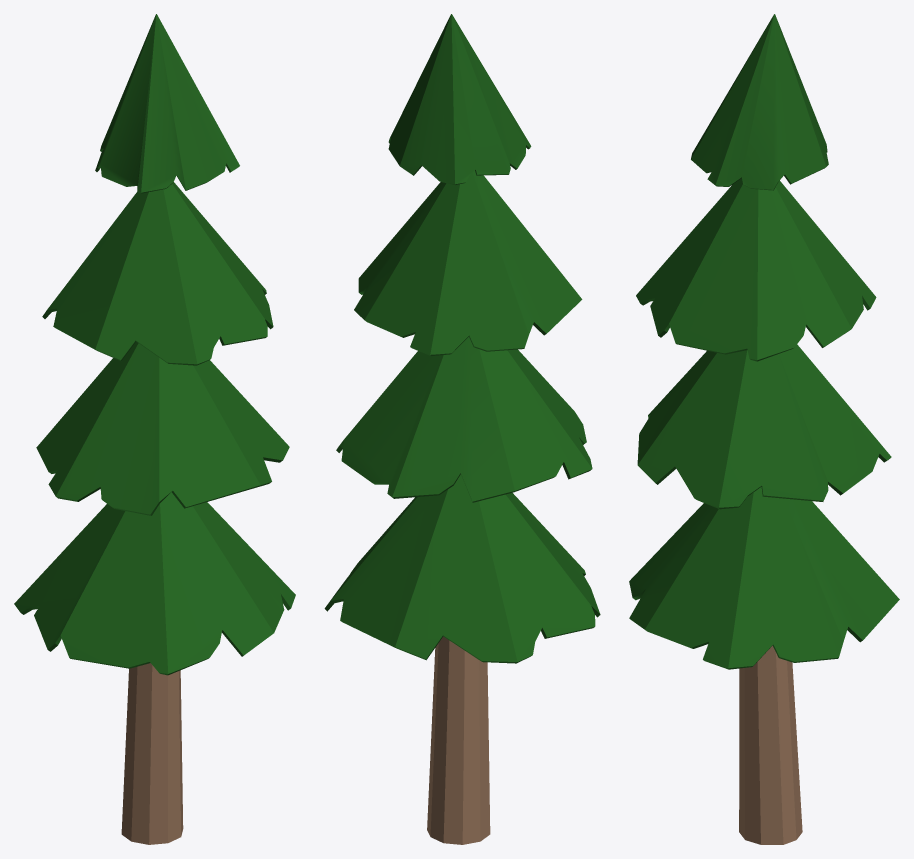
The model's file is Pino1.fbx.
3 views of the same model, side by side, from view 1: azimuth 30°, elevation 25°; view 2: azimuth 150°, elevation 25°; view 3: azimuth 270°, elevation 25° (orthographic).
Parts seen in each view (by area): view 1: FirstPine; view 2: FirstPine; view 3: FirstPine.
Part boxes in pixels (x1=…): FirstPine: x1=14, y1=14, x2=295, y2=844; FirstPine: x1=324, y1=14, x2=600, y2=844; FirstPine: x1=629, y1=14, x2=899, y2=844.
Size of the model in its own units: 2482 by 7968 by 2382.
